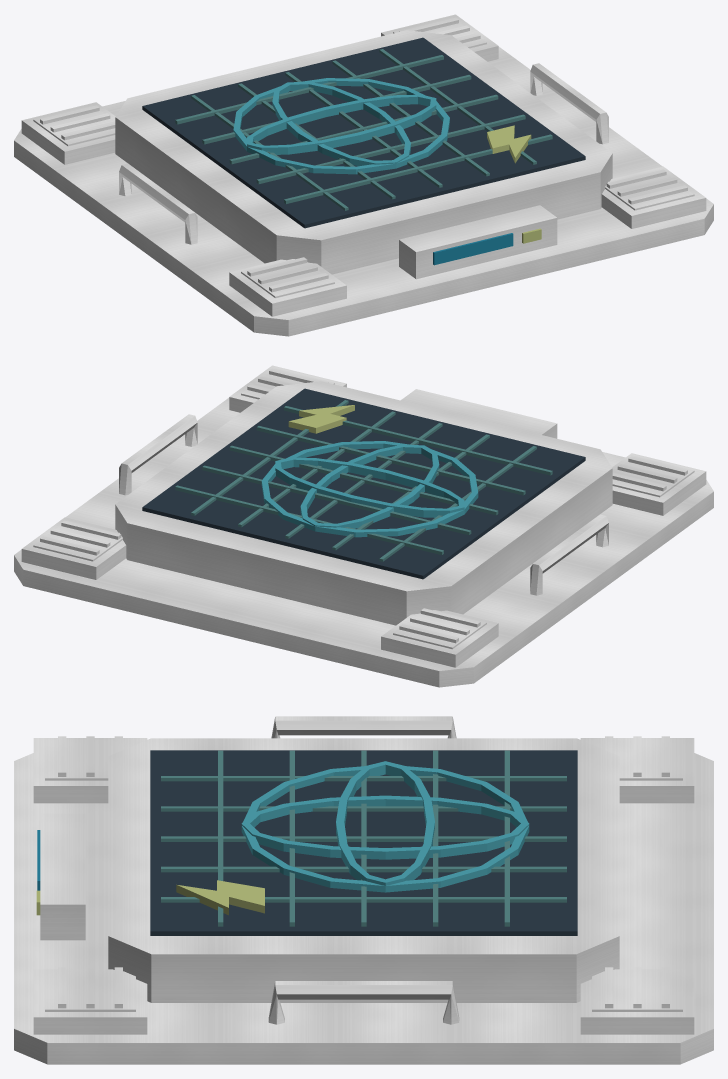
File: weather_controller.obj
The picture shows the model from 3 angles, top to bottom: view 1: azimuth 30°, elevation 25°; view 2: azimuth 150°, elevation 25°; view 3: azimuth 270°, elevation 25°; orthographic projection. The views are drawn at different scales.
Visible parts, largest first — view 1: weather_controller; view 2: weather_controller; view 3: weather_controller.
Part boxes in pixels (left/top/right/bottom): weather_controller: left=14, top=14, right=713, bottom=336; weather_controller: left=14, top=365, right=713, bottom=687; weather_controller: left=14, top=716, right=713, bottom=1064.
Size of the model in its own units: 5.86 by 0.79 by 5.86.
